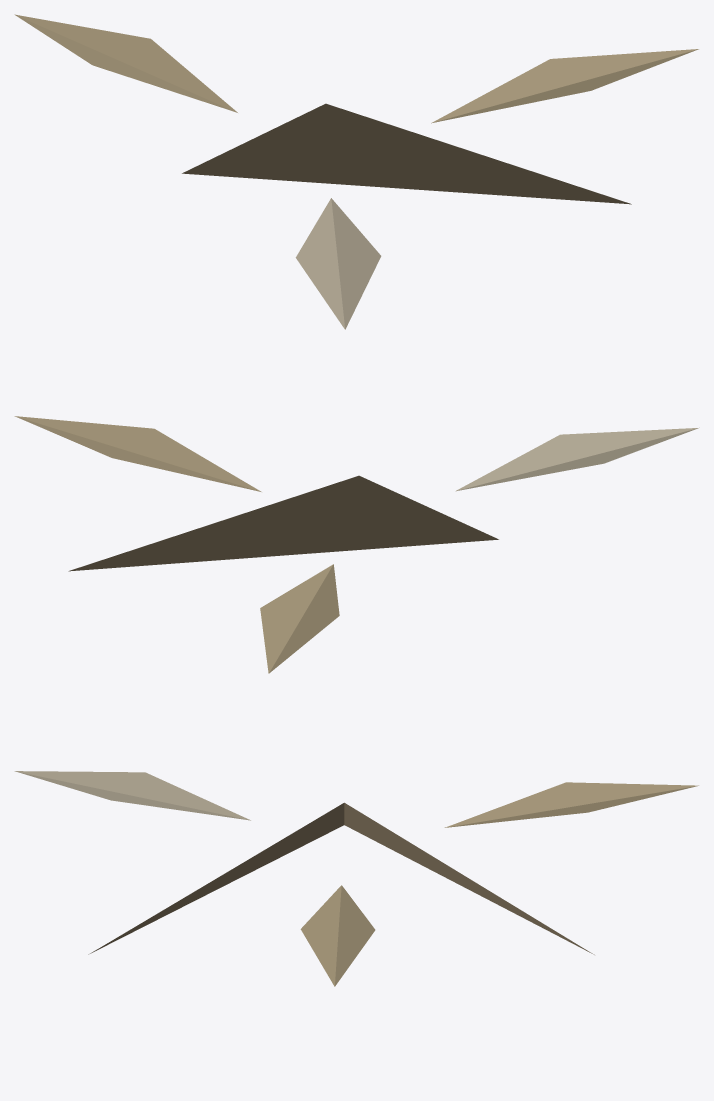
Rendered from hua.ju@withered__spring.glb.
3 views of the same model, one above another, from view 1: azimuth 30°, elevation 25°; view 2: azimuth 150°, elevation 25°; view 3: azimuth 270°, elevation 25° (orthographic). The views are drawn at different scales.
Parts seen in each view (by area): view 1: hua.ju@withered__spring; view 2: hua.ju@withered__spring; view 3: hua.ju@withered__spring.
Part boxes in pixels (x1=…): hua.ju@withered__spring: x1=14, y1=14, x2=698, y2=329; hua.ju@withered__spring: x1=14, y1=416, x2=699, y2=673; hua.ju@withered__spring: x1=14, y1=771, x2=698, y2=986.
Size of the model in its own units: 0.3381 by 0.084 by 0.3402.
